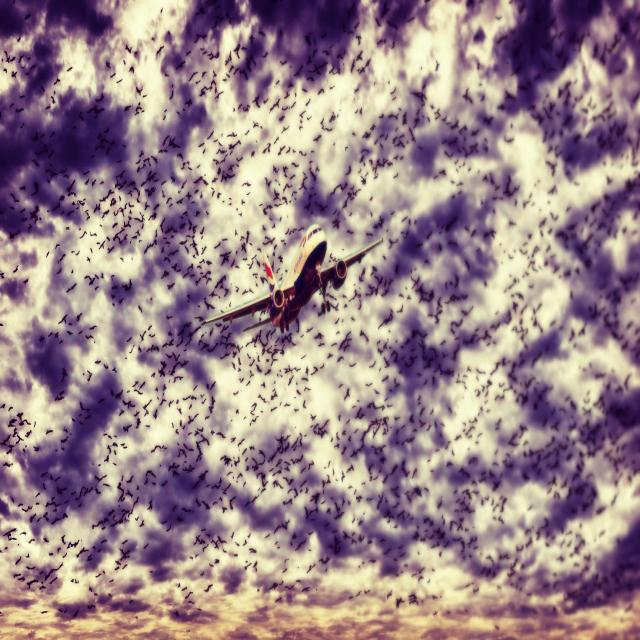airplane: (199, 222, 384, 335)
